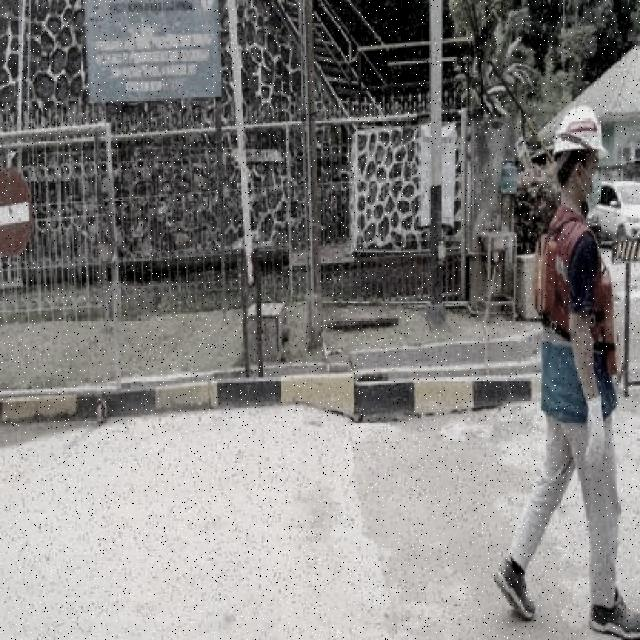Boots: (492, 551, 537, 624), (586, 586, 640, 640)
Gloves: (584, 393, 608, 469)
Helmet: (552, 104, 611, 161)
Mask: (532, 233, 623, 382)
